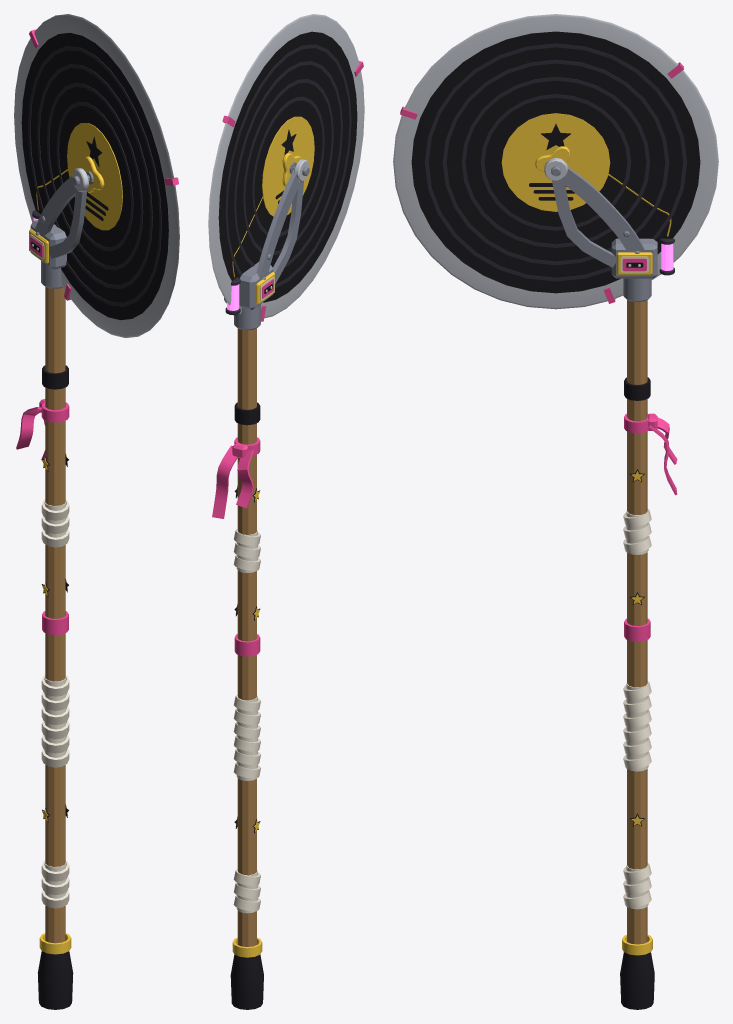
The model's file is vinyl_glaive.glb.
3 renders of one model, left to right at view 1: azimuth 30°, elevation 25°; view 2: azimuth 150°, elevation 25°; view 3: azimuth 270°, elevation 25°, orthographic. The views are drawn at different scales.
Visible parts, largest first — view 1: Disc, Weapon; view 2: Disc, Weapon; view 3: Disc, Weapon.
Boxes of the visible parts, x1,y1,x2,y2 form: Disc: [14, 14, 179, 337]; Weapon: [16, 168, 89, 1009]; Disc: [208, 14, 364, 321]; Weapon: [212, 159, 309, 1009]; Disc: [393, 14, 718, 309]; Weapon: [544, 158, 677, 1009].
Size of the model in its own units: 0.094 by 2.01 by 0.6.
